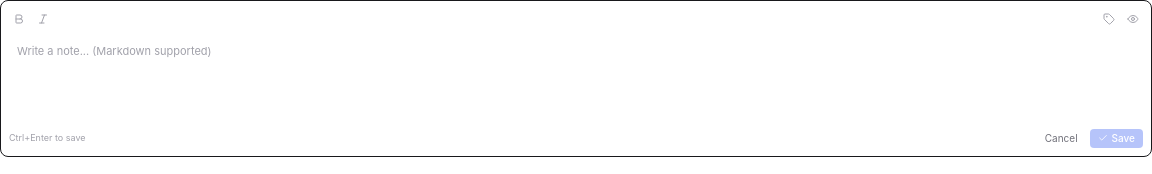
Scenario: NoteEditor › toolbar buttons › wraps selected text with italic markers
In the text box with placeholder "Write a note... (Markdown supported)": (576, 79) [9, 37, 1143, 120], type "Hello world"
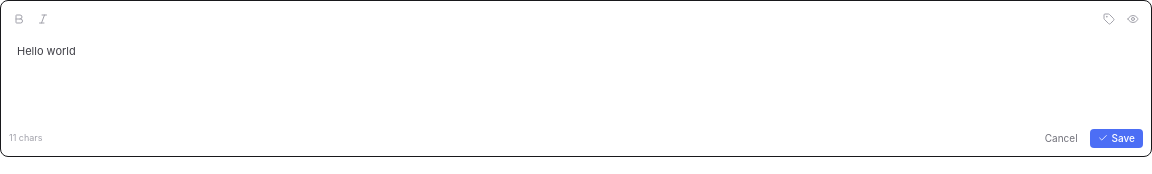
Click the button titled "Italic": click(43, 19) [33, 9, 53, 29]
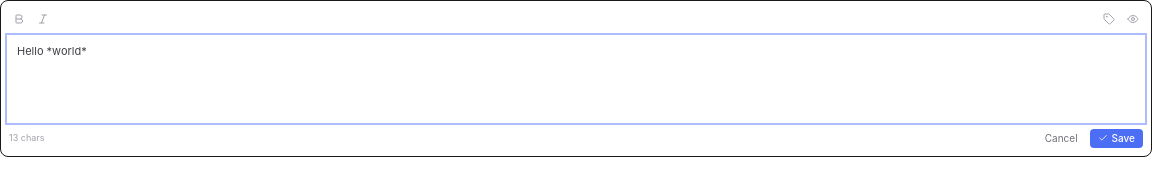
Check: the text box with placeholder "Write a note... (Markdown supported)" holds "Hello *world*", box [9, 37, 1143, 120]
